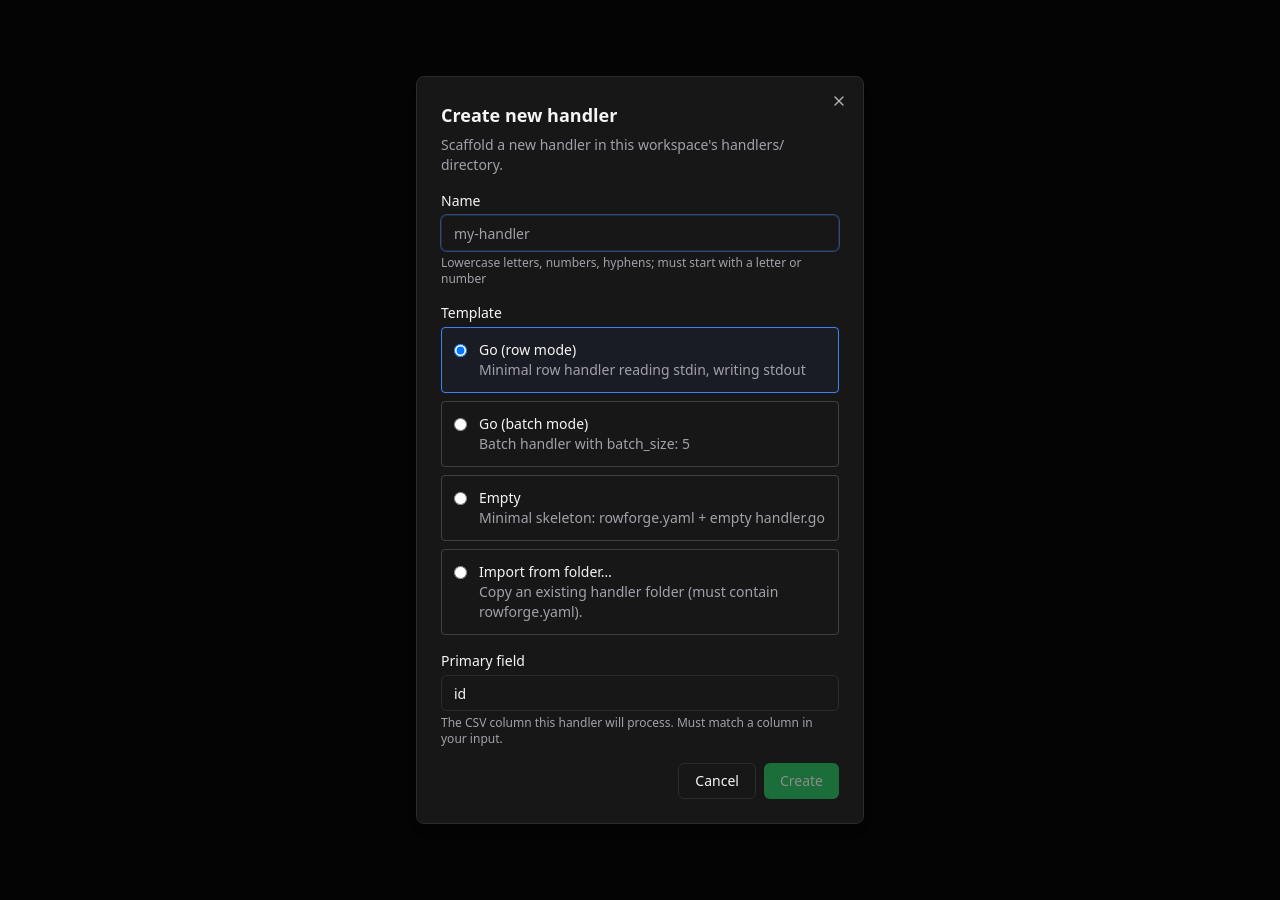
ScaffoldDialog › shows inline error when name is invalid
This screenshot has width=1280, height=900.
Type "BadName" into the field labelled "Name" at (640, 233), box [441, 215, 839, 251]
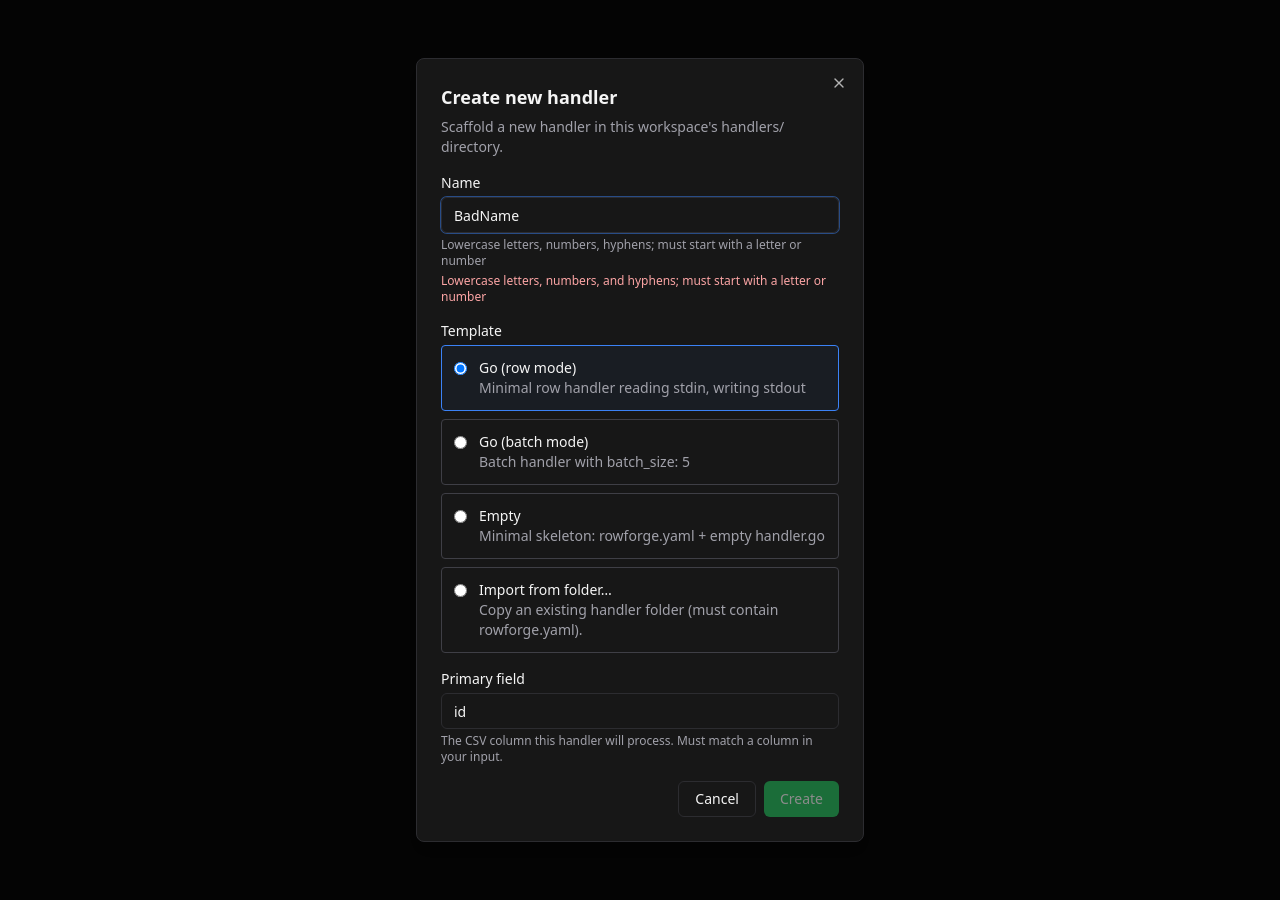
Now the text "Lowercase letters, numbers, and hyphens" is shown, box [441, 272, 826, 305]
